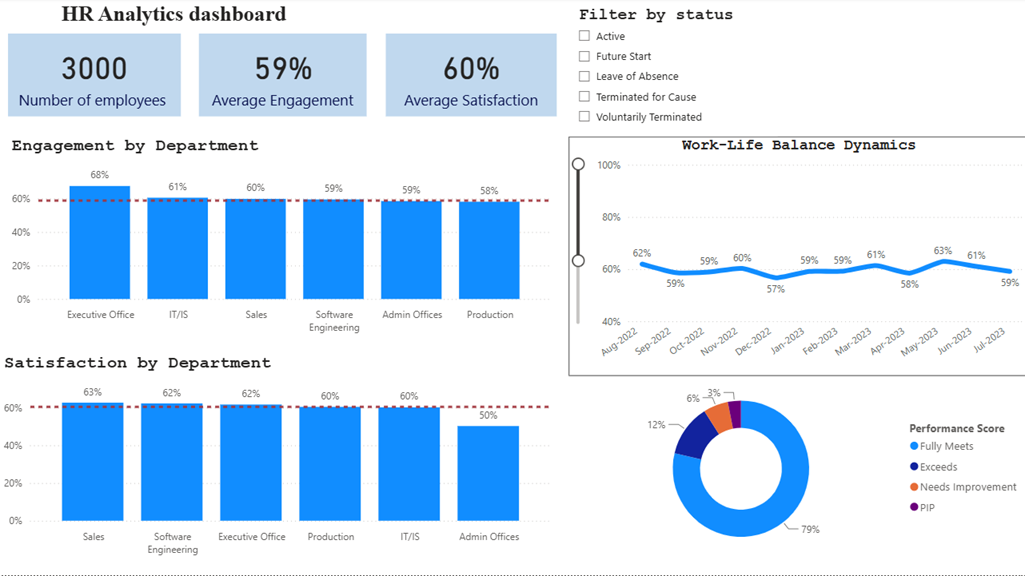

The dashboard page shown, as its layout file describes it:
{"tool":"powerbi","page":{"name":"Dashboard","canvas":[1280,720],"ordinal":7},"visuals":[{"type":"textbox","box":[10,0,413,53.5],"z":0},{"type":"card","fields":{"Values":["Count(employee_engagement_survey_data.EmpID)"]},"box":[10,44.8,215.2,103.2],"z":1000},{"type":"card","fields":{"Values":["employee_data.% AverageSatisfaction"]},"box":[480.2,44.8,212.7,103.2],"z":2000},{"type":"card","fields":{"Values":["employee_engagement_survey_data.% AverageEngagement"]},"box":[247.5,44.8,209,103.2],"z":3000},{"type":"clusteredColumnChart","title":"Engagement by Department","fields":{"Category":["employee_data.DepartmentType"],"Y":["employee_engagement_survey_data.% AverageEngagement"]},"box":[10,172.9,682.9,253.8],"z":4000},{"type":"clusteredColumnChart","title":"Satisfaction by Department","fields":{"Category":["employee_data.DepartmentType"],"Y":["employee_data.% AverageSatisfaction"]},"box":[0,442.8,692.9,260],"z":5000},{"type":"lineChart","title":"Work-Life Balance Dynamics","fields":{"Y":["employee_engagement_survey_data.% Average WL Balance"],"Category":["Calendar.MonthYear"]},"box":[707.8,172.9,572.2,298.6],"z":6000},{"type":"slicer","fields":{"Values":["employee_data.EmployeeStatus"]},"box":[707.8,5,260,167.9],"z":7000},{"type":"donutChart","fields":{"Category":["employee_data.Performance Score"],"Y":["CountNonNull(employee_data.Performance Score)"]},"box":[707.8,471.5,572.2,231.4],"z":8000}]}

Visuals, with their boxes in screenshot pixels (x1, y1, x2, y2), scaled from the page's 1280x720 canvas onto the 1025x576 screenshot:
textbox: (8, 0, 339, 43)
card - Count(employee_engagement_survey_data.EmpID): (8, 36, 180, 118)
card - employee_data.% AverageSatisfaction: (385, 36, 555, 118)
card - employee_engagement_survey_data.% AverageEngagement: (198, 36, 366, 118)
"Engagement by Department" clusteredColumnChart: (8, 138, 555, 341)
"Satisfaction by Department" clusteredColumnChart: (0, 354, 555, 562)
"Work-Life Balance Dynamics" lineChart: (567, 138, 1024, 377)
slicer - employee_data.EmployeeStatus: (567, 4, 775, 138)
donutChart - employee_data.Performance Score x CountNonNull(employee_data.Performance Score): (567, 377, 1024, 562)
